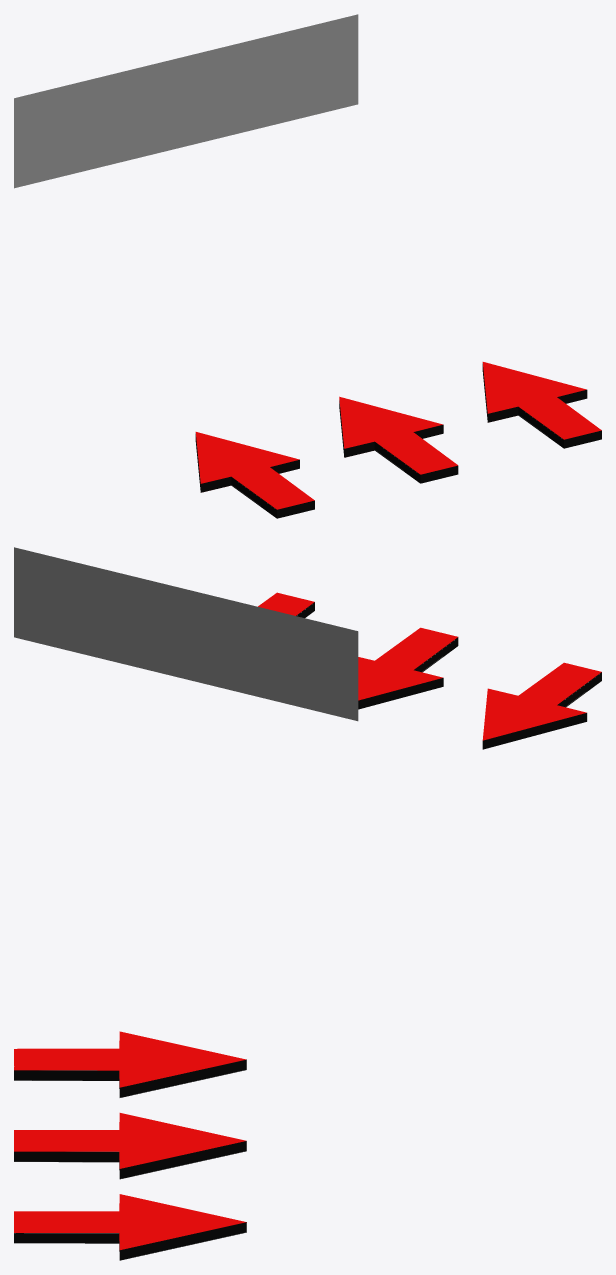
Rendered from setas.FBX.
3 views of the same model, one above another, from view 1: azimuth 30°, elevation 25°; view 2: azimuth 150°, elevation 25°; view 3: azimuth 270°, elevation 25° (orthographic). The views are drawn at different scales.
Parts seen in each view (by area): view 1: Plane002, Box002; view 2: Plane002, Box002; view 3: Box002.
Boxes of the visible parts, <box> form: Plane002: <box>14,14,358,188</box>; Box002: <box>195,362,601,518</box>; Plane002: <box>14,547,358,721</box>; Box002: <box>258,592,601,749</box>; Box002: <box>14,1031,246,1260</box>.
Size of the model in its own units: 269 by 158 by 306.
2 materials, 1 textured.
